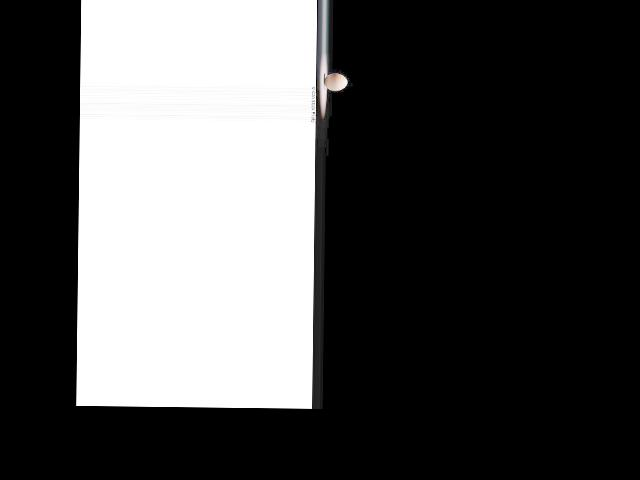egg: (323, 72, 347, 91)
